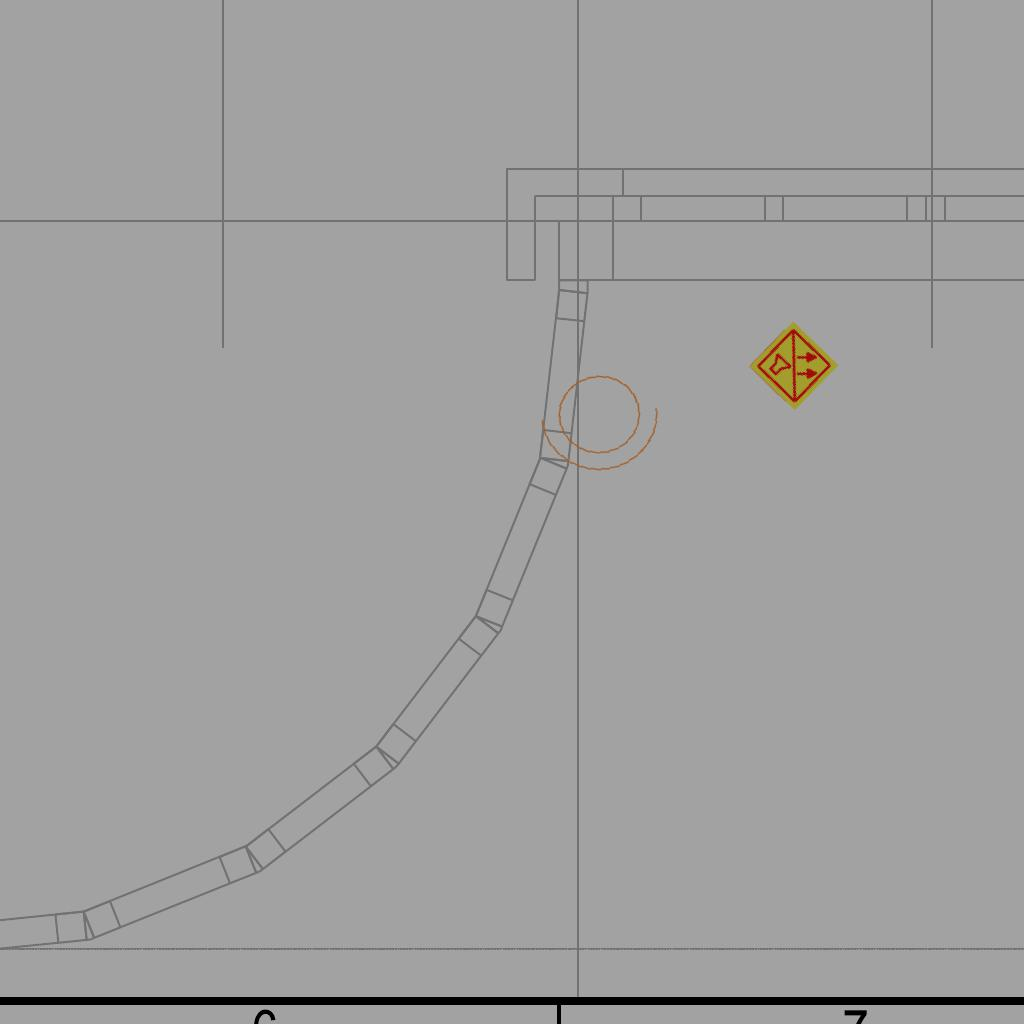OKW_Multisensormelder_(Kombination_optischer_Rauch-Kahlenmonoxid_Waerme-Melder): (747, 319, 841, 413)
Scheinwerfer_fuer_Alarmbeleuchtung: (531, 356, 675, 482)
